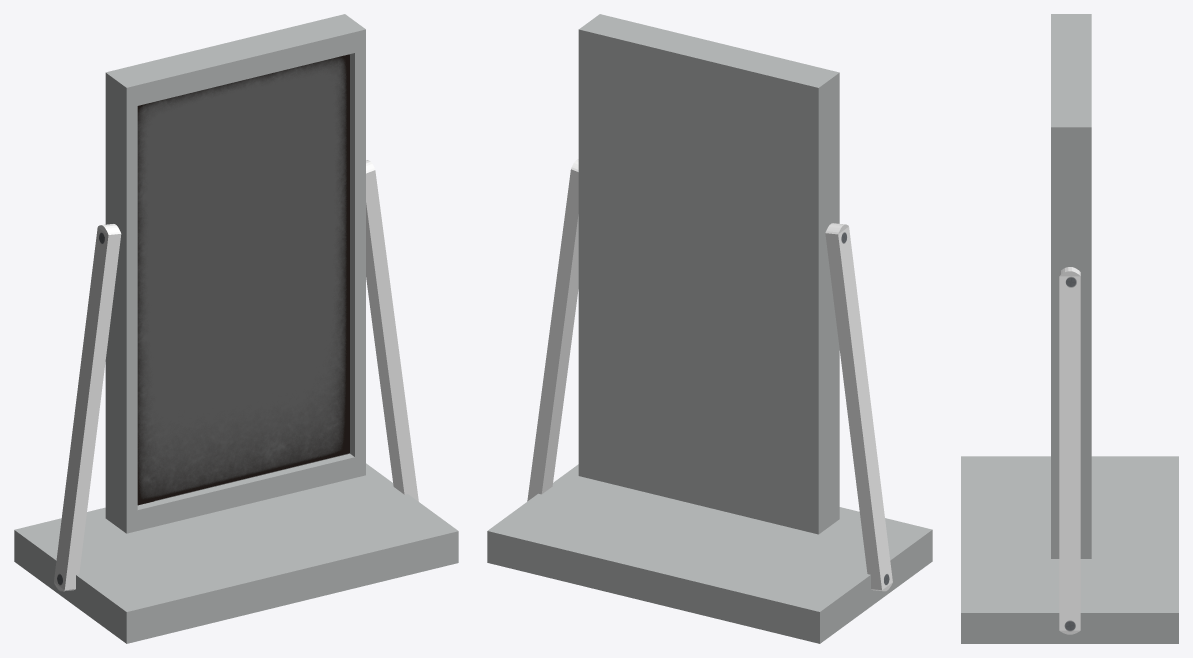
File: Mirror_Model.fbx
3 views of the same model, side by side, from view 1: azimuth 30°, elevation 25°; view 2: azimuth 150°, elevation 25°; view 3: azimuth 270°, elevation 25° (orthographic). The views are drawn at different scales.
Visible parts, largest first — view 1: specchio; view 2: specchio; view 3: specchio.
Boxes of the visible parts, left/top/right/bottom form: specchio: left=14, top=14, right=458, bottom=643; specchio: left=487, top=14, right=932, bottom=643; specchio: left=961, top=14, right=1178, bottom=643.
Size of the model in its own units: 0.0752 by 0.1036 by 0.0414.
Materials: 1 (1 with a texture image).
